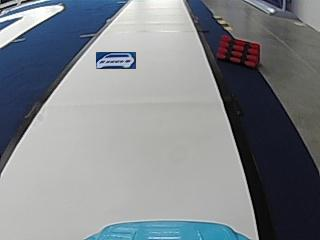bomb: (216, 35, 261, 67)
